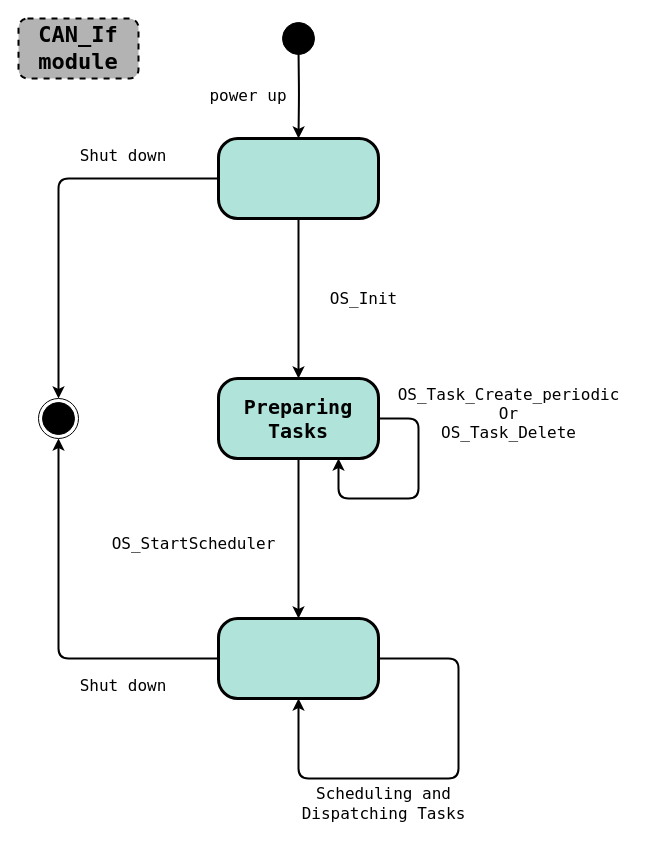
The diagram is 650 pixels wide and 845 high, and some of its shapes have lost their labels. The shapes that lost their labels are listed below. From the top down, each one's centre as x and y in pixels, then its label:
At (x=298, y=178): "Idle".
At (x=298, y=658): "Operating Tasks".
